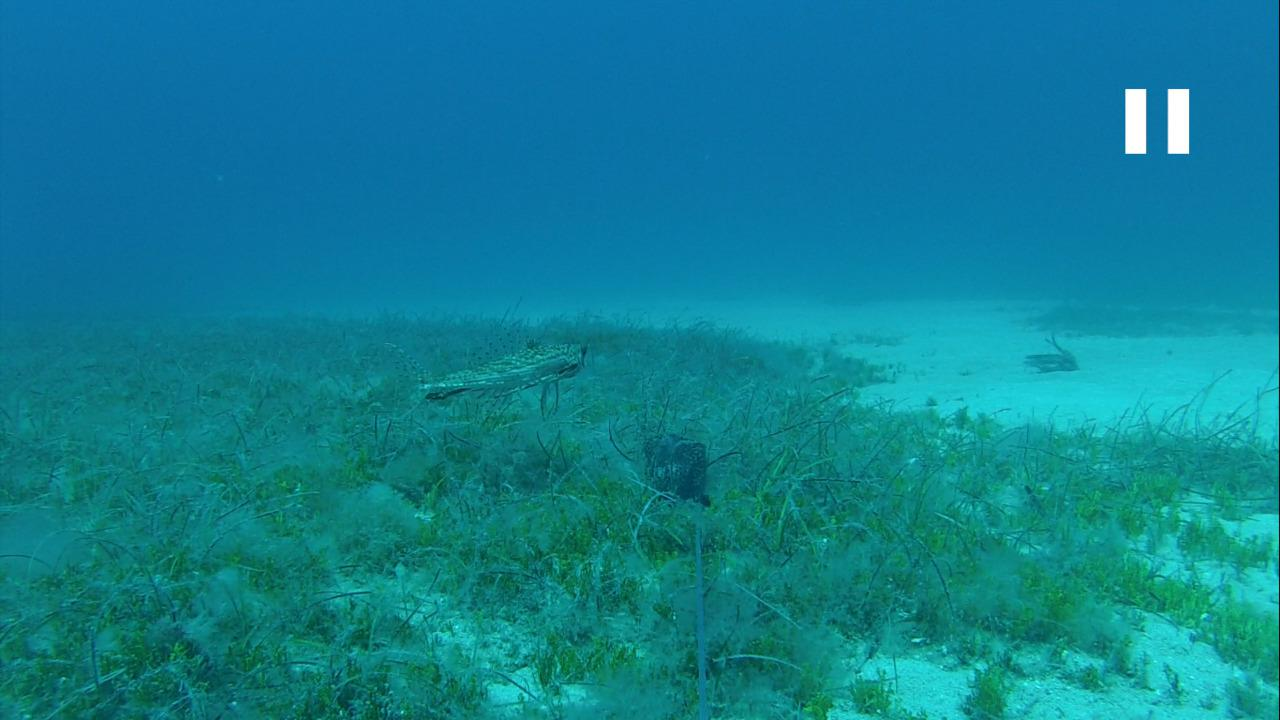dactylopterus: (414, 334, 589, 426)
